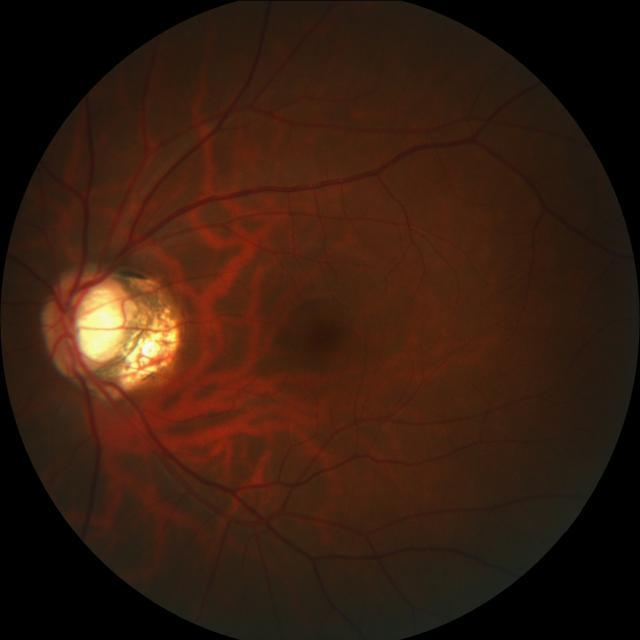OC: (76, 289, 127, 359)
OD: (42, 267, 130, 375)
